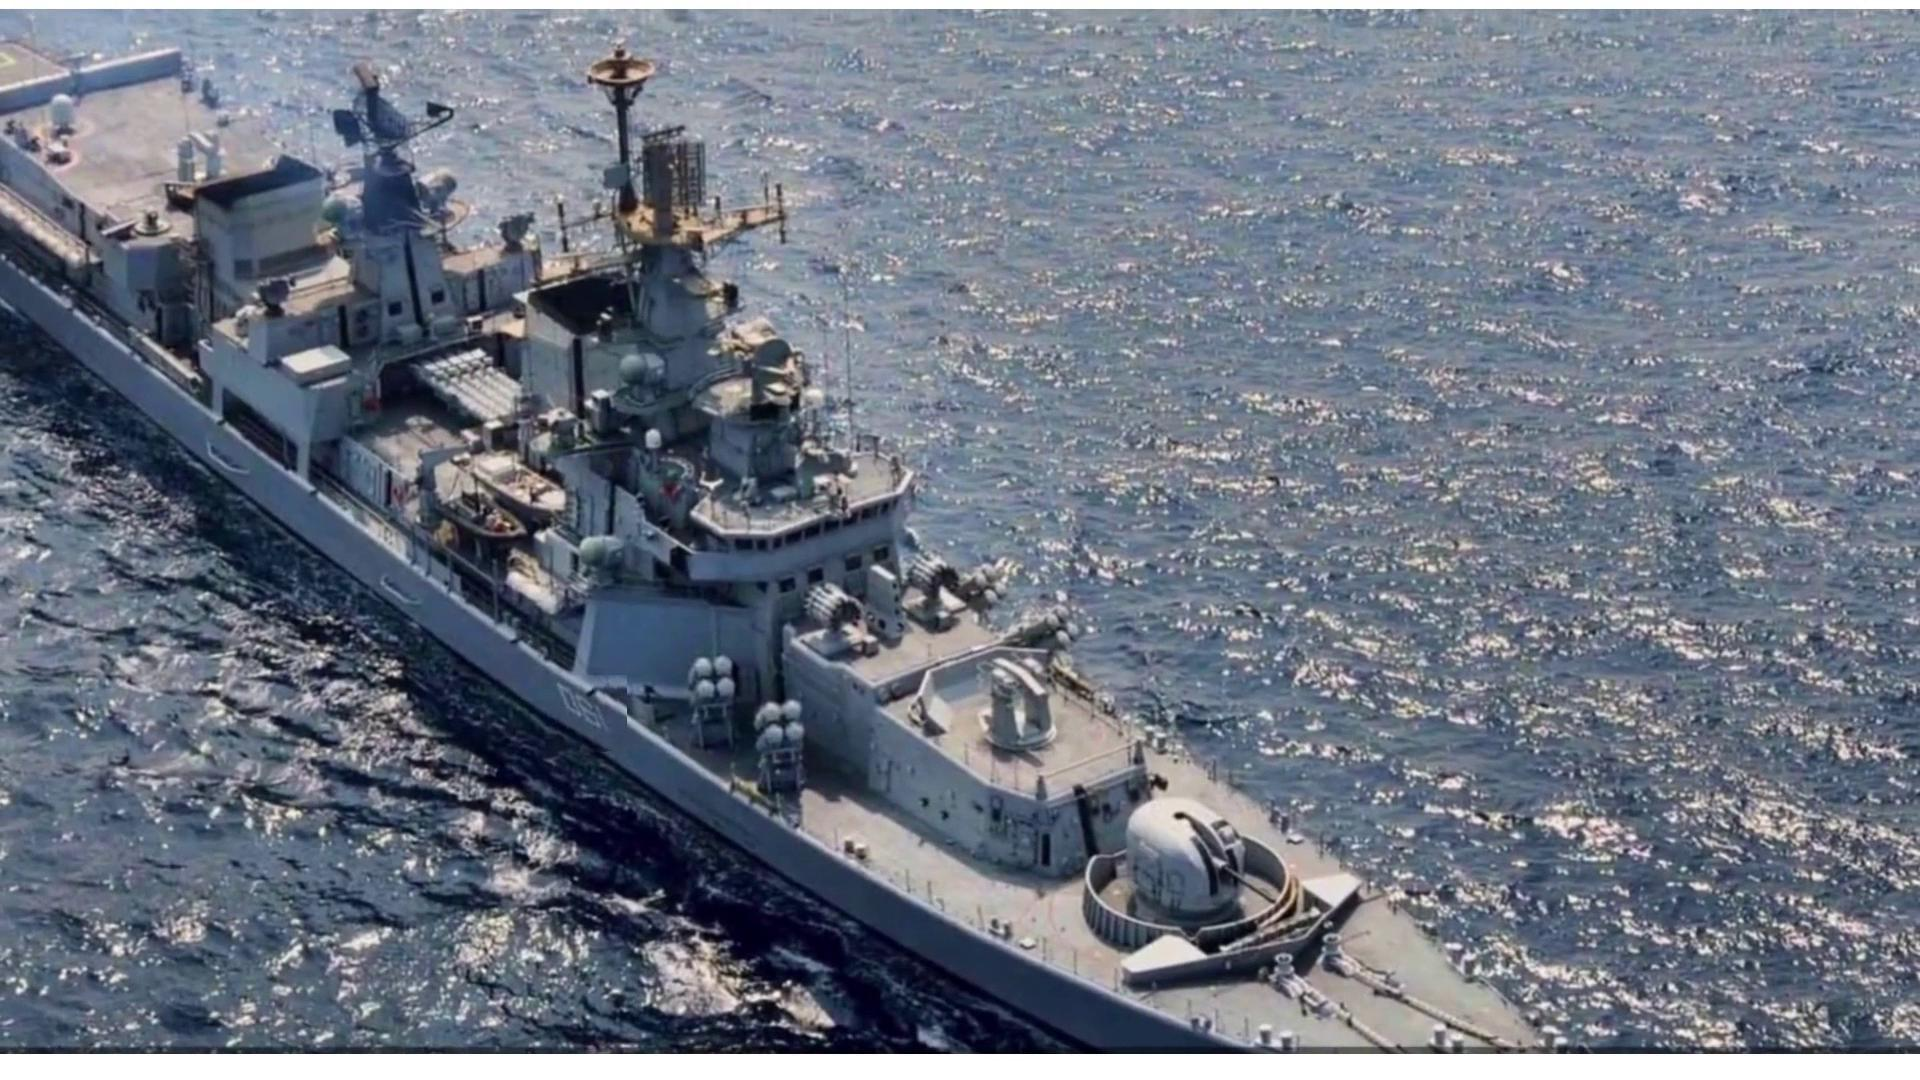OCR: (548, 675, 627, 756)
